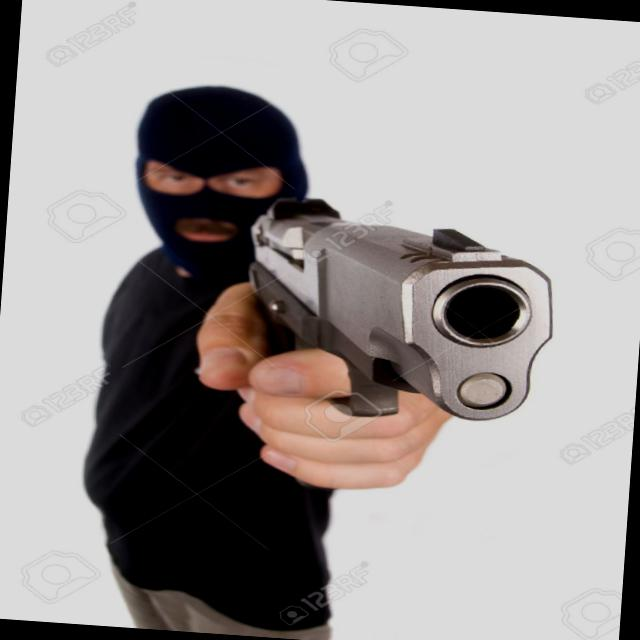handgun: (212, 174, 564, 437)
